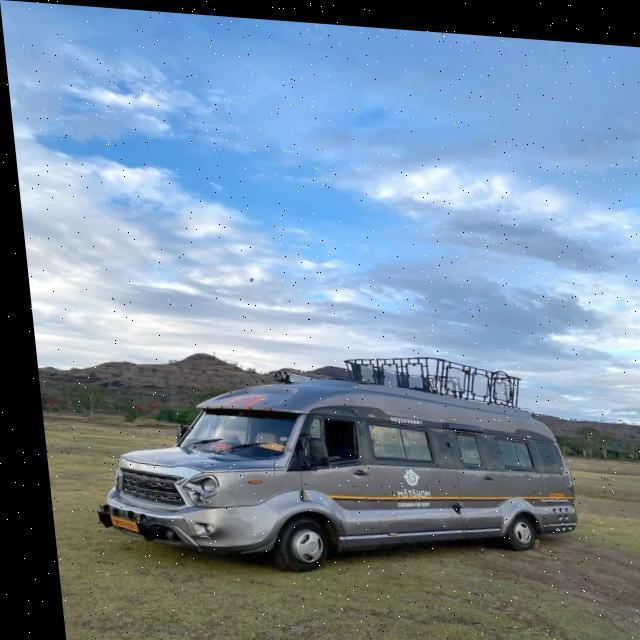Ambulance: (35, 413, 640, 640), (68, 328, 578, 588)
